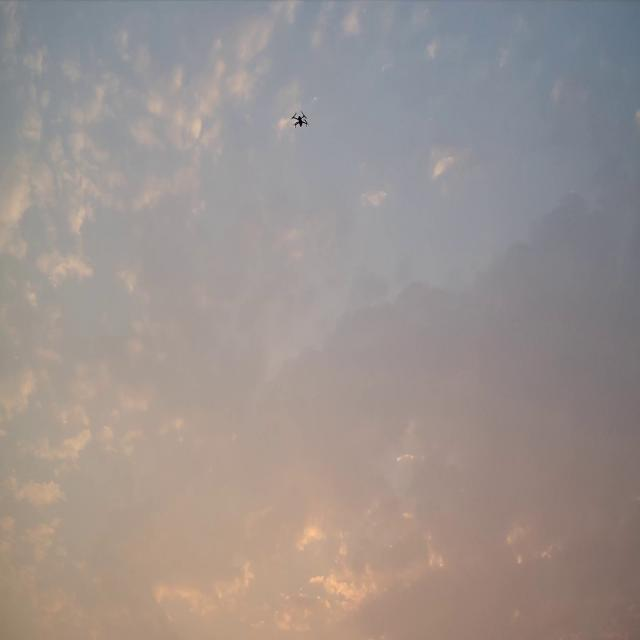UAV: (290, 110, 310, 128)
